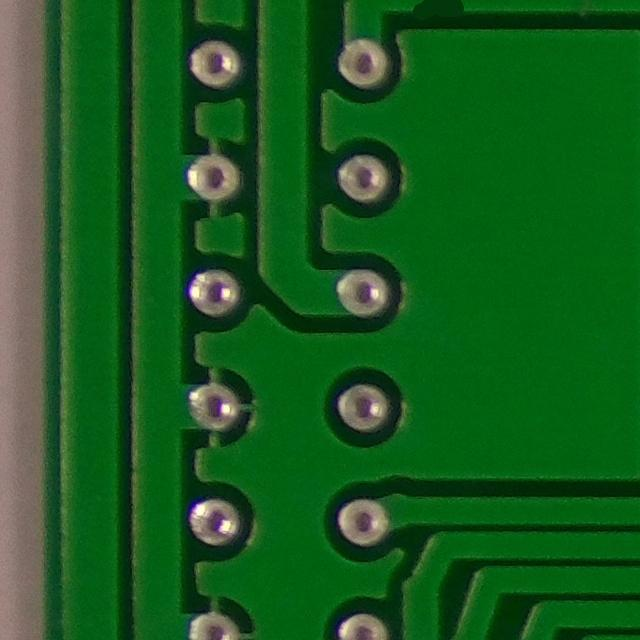mouse_bite: (401, 0, 479, 35)
